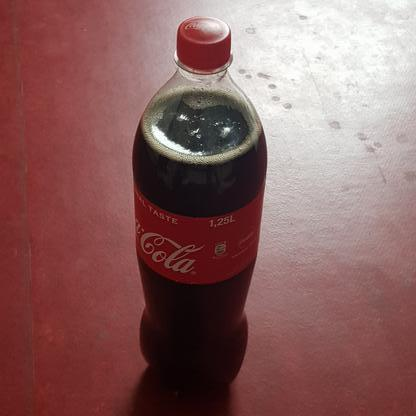coca-cola: (129, 14, 270, 394)
